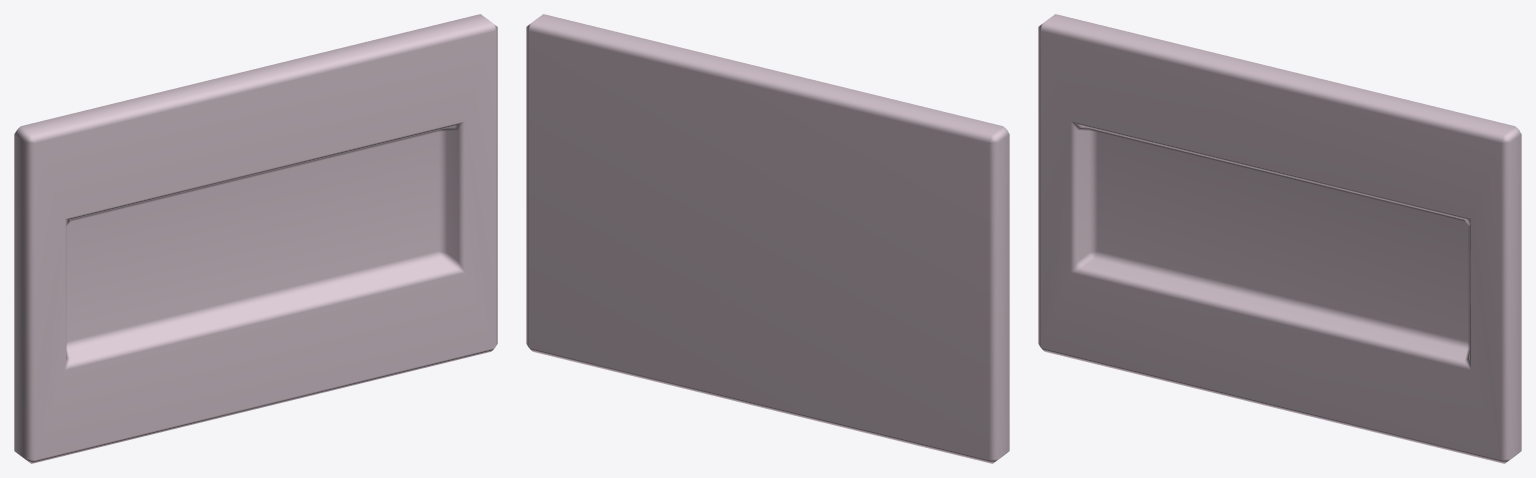
File: mod_sc_roma_001_ar09_wall_009.FBX
3 views of the same model, side by side, from view 1: azimuth 30°, elevation 25°; view 2: azimuth 150°, elevation 25°; view 3: azimuth 330°, elevation 25° (orthographic).
Parts seen in each view (by area): view 1: mod_sc_roma_001_ar09_wall_009; view 2: mod_sc_roma_001_ar09_wall_009; view 3: mod_sc_roma_001_ar09_wall_009.
Boxes of the visible parts, x1,y1,x2,y2 form: mod_sc_roma_001_ar09_wall_009: (14, 14, 497, 463); mod_sc_roma_001_ar09_wall_009: (526, 14, 1009, 463); mod_sc_roma_001_ar09_wall_009: (1038, 14, 1521, 463).
Size of what is drawn, in the model's own units: 300 by 200 by 20.
